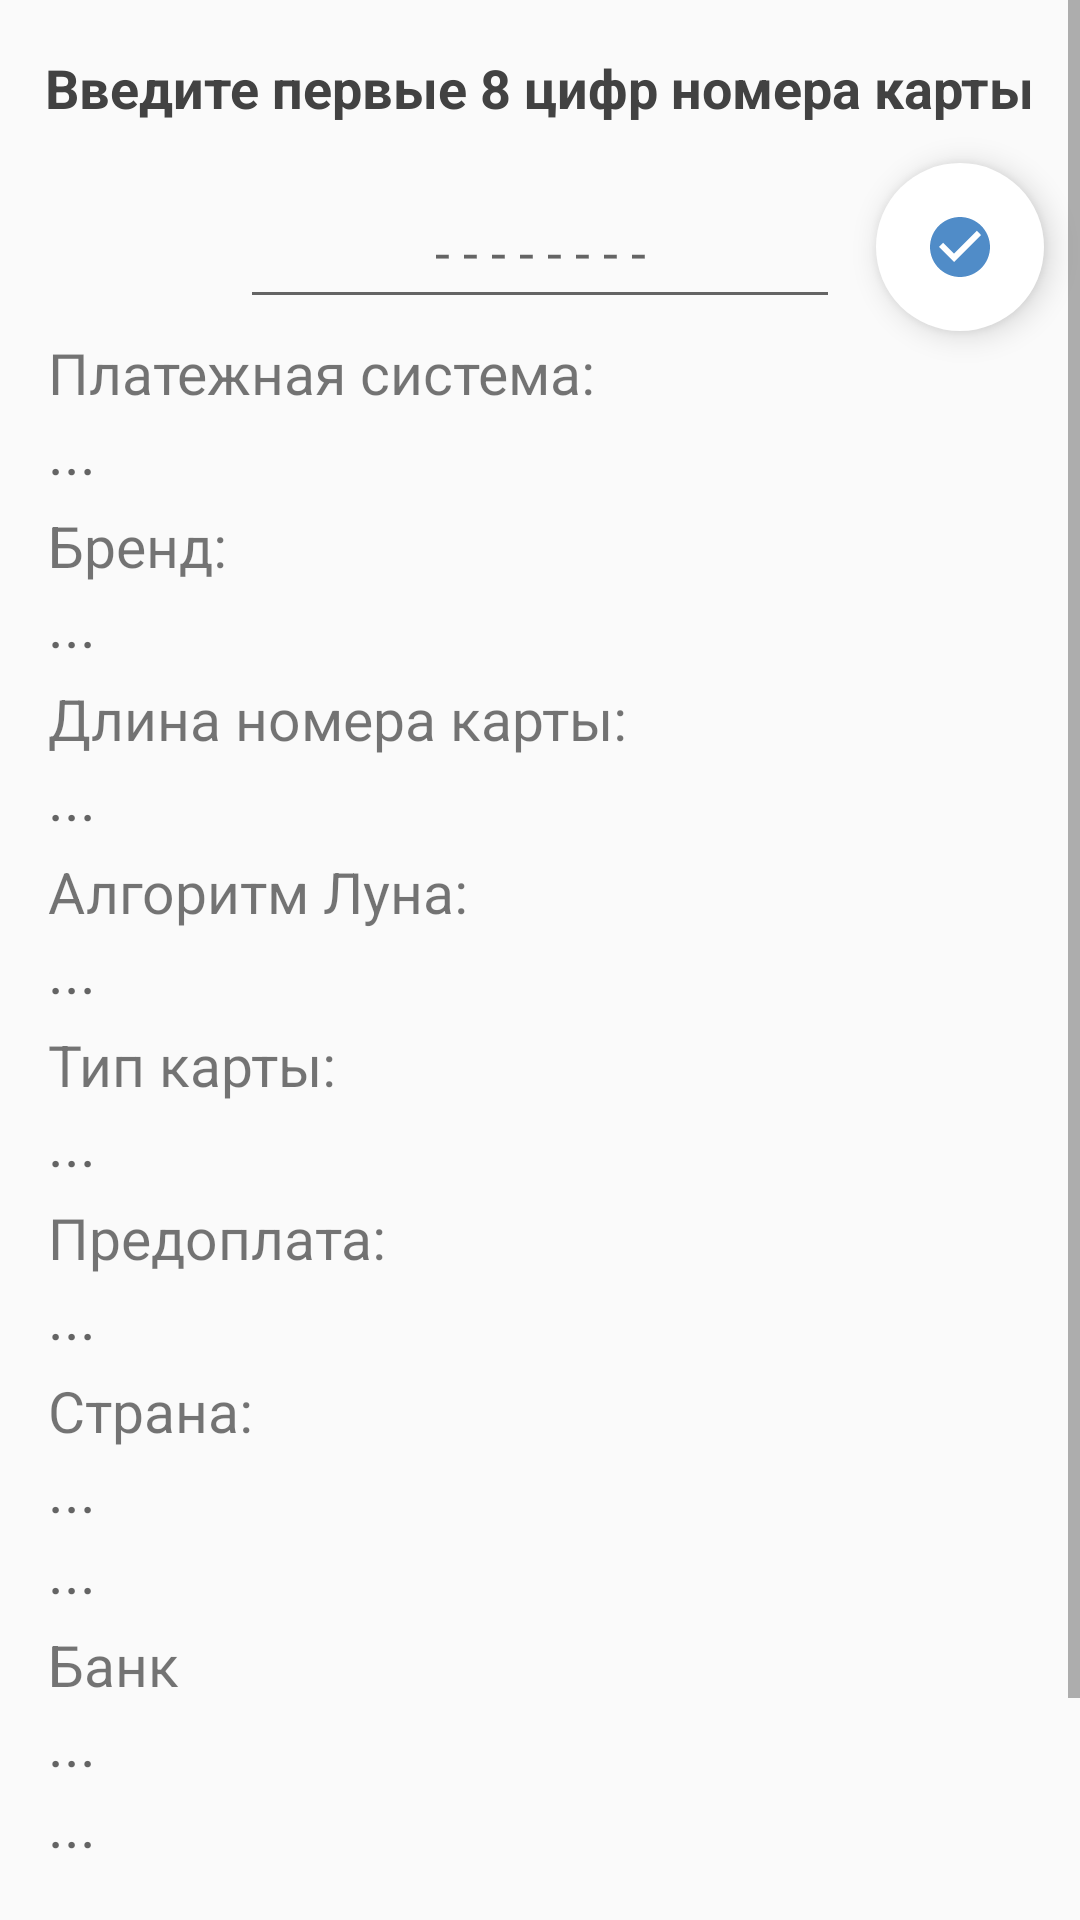

Named icons in this screenshot (1080*1920) and their bounding boxes, (x1, y1, x2, y2):
check circle: (876, 163, 1044, 331)
